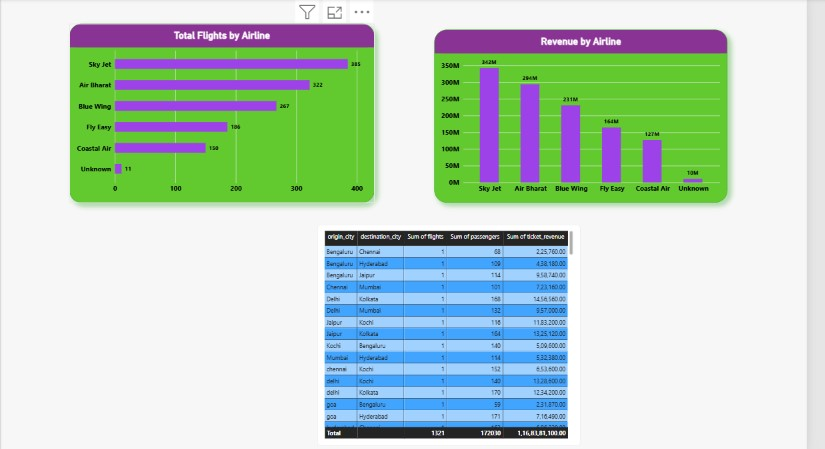

Layout of this report page (visuals, bound fields, positions):
{"tool":"powerbi","page":{"name":"Airline & Route Analysis","canvas":[1920,1080],"ordinal":1},"visuals":[{"type":"clusteredBarChart","title":"Total Flights by Airline","fields":{"Category":["`airline_flights` `default` `gold_airline_summary`.airline"],"Y":["Sum(`airline_flights` `default` `gold_airline_summary`.flights)"]},"box":[162.2,59.6,727.7,427.1],"z":0},{"type":"clusteredColumnChart","title":"Revenue by Airline","fields":{"Category":["`airline_flights` `default` `gold_airline_summary`.airline"],"Y":["Sum(`airline_flights` `default` `gold_airline_summary`.ticket_revenue)"]},"box":[1033.1,74,699.1,412.8],"z":1000},{"type":"tableEx","fields":{"Values":["`airline_flights` `default` `gold_route_summary`.origin_city","`airline_flights` `default` `gold_route_summary`.destination_city","Sum(`airline_flights` `default` `gold_route_summary`.flights)","Sum(`airline_flights` `default` `gold_route_summary`.passengers)","Sum(`airline_flights` `default` `gold_route_summary`.ticket_revenue)"]},"box":[753.9,539.2,627.5,527.3],"z":2000}]}

Visuals, with their boxes on the page's 1920x1080 design canvas (x1, y1, x2, y2). These are canvas units, not pixel positions in the 825x449 screenshot, which may show the page scaled, cropped or inside an application window:
"Total Flights by Airline" clusteredBarChart: detection(162, 60, 890, 487)
"Revenue by Airline" clusteredColumnChart: detection(1033, 74, 1732, 487)
tableEx - `airline_flights` `default` `gold_route_summary`.origin_city x `airline_flights` `default` `gold_route_summary`.destination_city: detection(754, 539, 1381, 1066)
